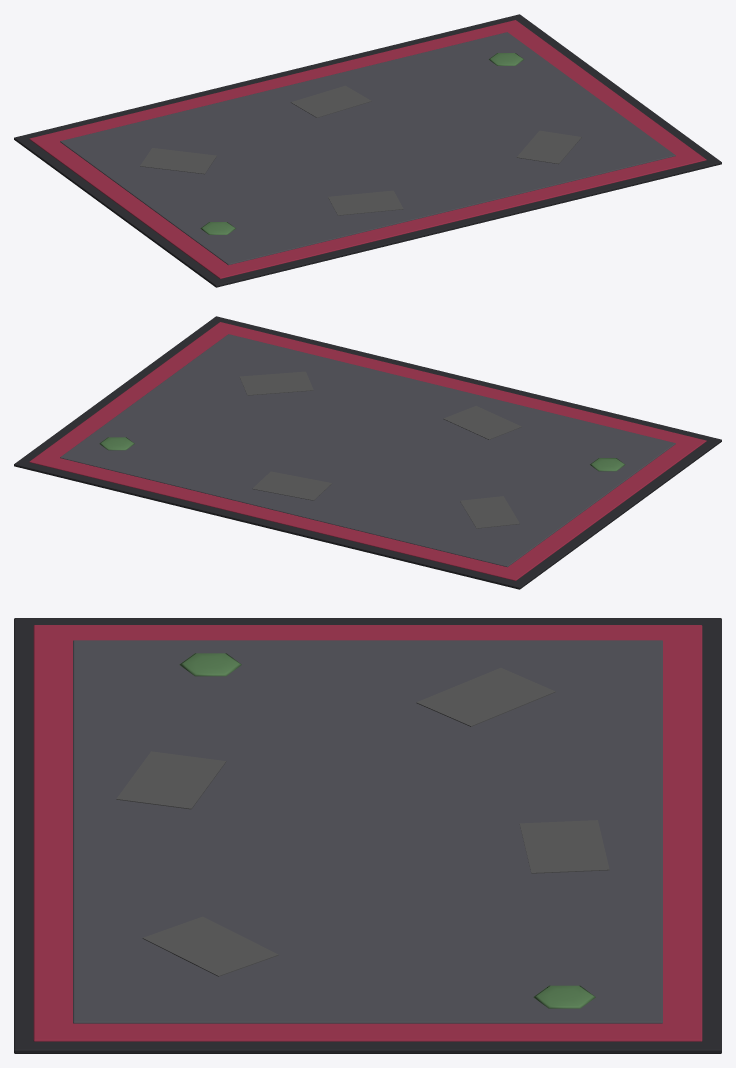
File: rug_tattered.glb
The picture shows the model from 3 angles, top to bottom: view 1: azimuth 30°, elevation 25°; view 2: azimuth 150°, elevation 25°; view 3: azimuth 270°, elevation 25°; orthographic projection. The views are drawn at different scales.
Parts seen in each view (by area): view 1: GD_rug_tattered__m2, GD_rug_tattered__m1, GD_rug_tattered__m0, GD_rug_tattered__m3, GD_rug_tattered__m4; view 2: GD_rug_tattered__m2, GD_rug_tattered__m1, GD_rug_tattered__m0, GD_rug_tattered__m3, GD_rug_tattered__m4; view 3: GD_rug_tattered__m2, GD_rug_tattered__m1, GD_rug_tattered__m0, GD_rug_tattered__m3, GD_rug_tattered__m4.
Part boxes in pixels (x1,y1,x2,y2): GD_rug_tattered__m2: (60, 32, 675, 265); GD_rug_tattered__m1: (29, 20, 706, 278); GD_rug_tattered__m0: (14, 14, 721, 287); GD_rug_tattered__m3: (140, 85, 581, 215); GD_rug_tattered__m4: (200, 53, 523, 234); GD_rug_tattered__m2: (60, 334, 675, 567); GD_rug_tattered__m1: (29, 322, 706, 580); GD_rug_tattered__m0: (14, 316, 721, 589); GD_rug_tattered__m3: (239, 371, 521, 528); GD_rug_tattered__m4: (99, 437, 625, 471); GD_rug_tattered__m2: (73, 640, 662, 1023); GD_rug_tattered__m1: (33, 625, 702, 1041); GD_rug_tattered__m0: (14, 618, 721, 1053); GD_rug_tattered__m3: (116, 667, 609, 976); GD_rug_tattered__m4: (179, 653, 595, 1008).
Size of the model in its own units: 2.6 by 0.028 by 1.8.
